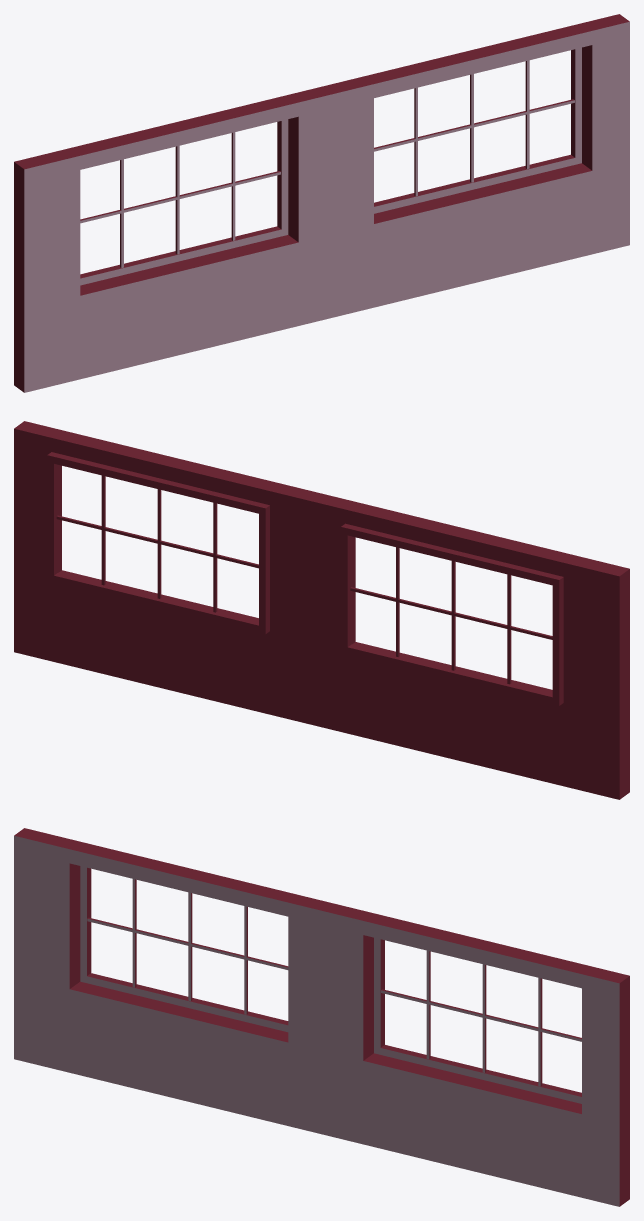
The model's file is Window2.glb.
3 views of the same model, one above another, from view 1: azimuth 30°, elevation 25°; view 2: azimuth 150°, elevation 25°; view 3: azimuth 330°, elevation 25° (orthographic).
Parts seen in each view (by area): view 1: wallsfloor; view 2: wallsfloor; view 3: wallsfloor.
Part boxes in pixels (left/top/right/bottom): wallsfloor: left=14, top=14, right=629, bottom=392; wallsfloor: left=14, top=421, right=629, bottom=799; wallsfloor: left=14, top=828, right=629, bottom=1206.
Bounding box in the file's own units: 10.03 × 3.54 × 0.424.
